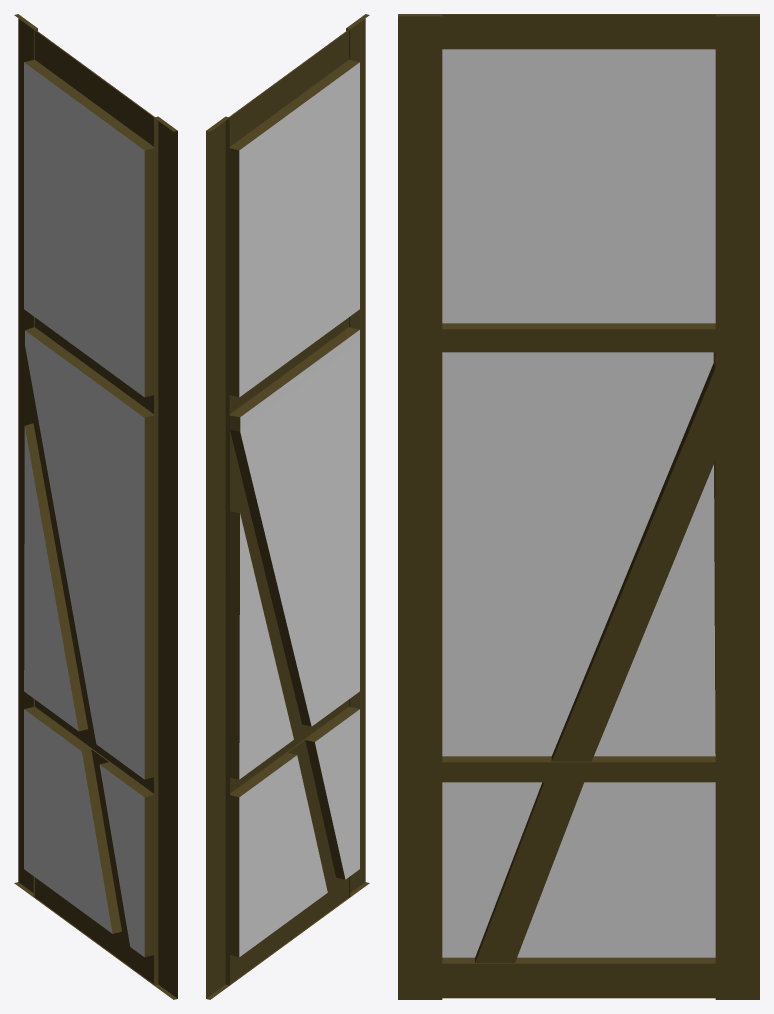
Rendered from GB_Wall_2Stripe_1M_V2.fbx.
3 renders of one model, left to right at view 1: azimuth 30°, elevation 25°; view 2: azimuth 150°, elevation 25°; view 3: azimuth 270°, elevation 25°, orthographic. The views are drawn at different scales.
Parts seen in each view (by area): view 1: HalfWall_Plaster17; view 2: HalfWall_Plaster17; view 3: HalfWall_Plaster17.
Boxes of the visible parts, x1=… form: HalfWall_Plaster17: x1=14, y1=14, x2=177, y2=999; HalfWall_Plaster17: x1=206, y1=14, x2=369, y2=999; HalfWall_Plaster17: x1=398, y1=14, x2=759, y2=999.
Size of the model in its own units: 0.05 by 3 by 1.
